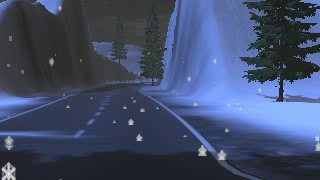Lane: (0, 82, 256, 179)
